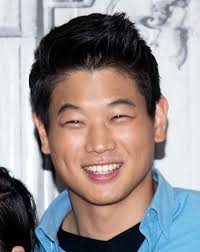person: (29, 12, 170, 208)
